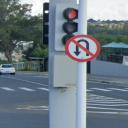NoVirarU: (64, 34, 102, 63)
